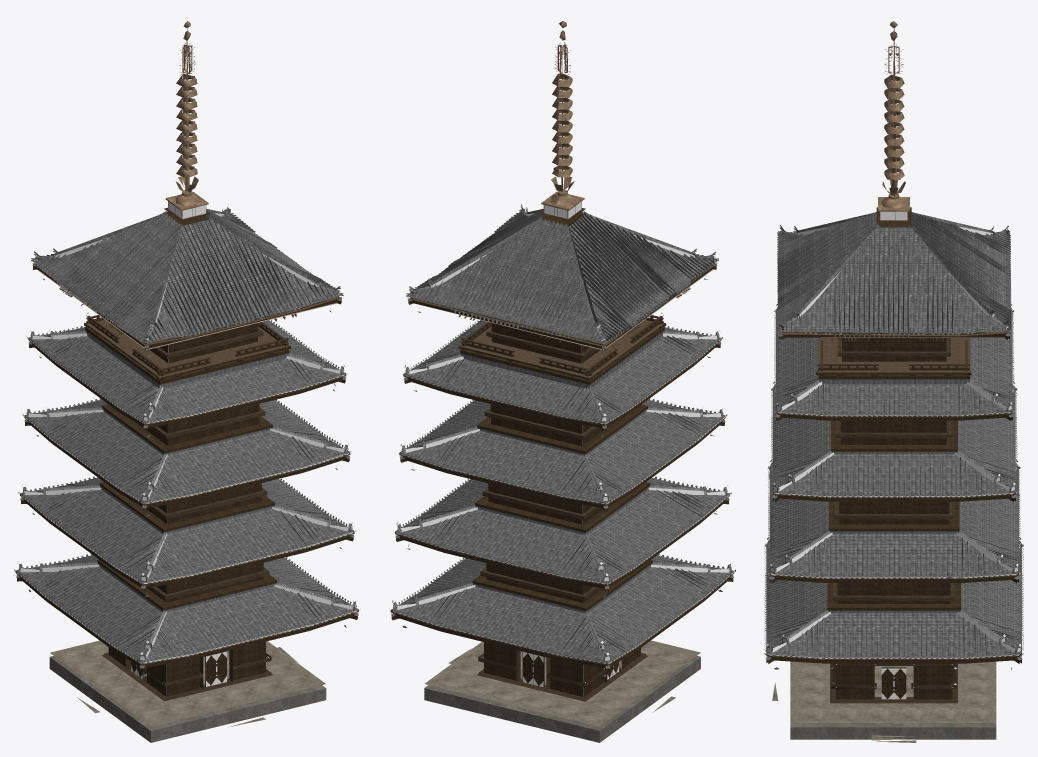
Rendered from Pagoda_Goju_46m.gltf.
The picture shows the model from 3 angles, left to right: view 1: azimuth 30°, elevation 25°; view 2: azimuth 150°, elevation 25°; view 3: azimuth 270°, elevation 25°; orthographic projection.
Visible parts, largest first — view 1: Roof5_LOD0.002, Roof1_LOD0.008, Roof2_LOD0.008, Roof3_LOD0.005, Roof4_LOD0.002, Base_LOD0.008, Wall1_LOD0.008, Sorin_LOD0.008, Wall4_LOD0.002, Wall3_LOD0.005, Wall5_LOD0.002, Wall2_LOD0.008; view 2: Roof5_LOD0.002, Roof1_LOD0.008, Roof2_LOD0.008, Roof3_LOD0.005, Roof4_LOD0.002, Base_LOD0.008, Wall1_LOD0.008, Sorin_LOD0.008, Wall4_LOD0.002, Wall3_LOD0.005, Wall5_LOD0.002, Wall2_LOD0.008; view 3: Roof5_LOD0.002, Roof1_LOD0.008, Roof2_LOD0.008, Roof3_LOD0.005, Roof4_LOD0.002, Base_LOD0.008, Wall1_LOD0.008, Sorin_LOD0.008, Wall4_LOD0.002, Wall3_LOD0.005, Wall5_LOD0.002, Wall2_LOD0.008 (+1 smaller).
Boxes of the visible parts, left/top/right/bottom form: Roof5_LOD0.002: left=31, top=207, right=343, bottom=349; Roof1_LOD0.008: left=14, top=554, right=360, bottom=668; Roof2_LOD0.008: left=18, top=476, right=356, bottom=588; Roof3_LOD0.005: left=22, top=398, right=351, bottom=508; Roof4_LOD0.002: left=27, top=312, right=347, bottom=428; Base_LOD0.008: left=49, top=640, right=326, bottom=742; Wall1_LOD0.008: left=17, top=577, right=357, bottom=701; Sorin_LOD0.008: left=165, top=21, right=208, bottom=219; Wall4_LOD0.002: left=29, top=344, right=345, bottom=445; Wall3_LOD0.005: left=25, top=422, right=349, bottom=524; Wall5_LOD0.002: left=33, top=266, right=341, bottom=363; Wall2_LOD0.008: left=21, top=500, right=353, bottom=602; Roof5_LOD0.002: left=406, top=204, right=718, bottom=349; Roof1_LOD0.008: left=389, top=554, right=735, bottom=668; Roof2_LOD0.008: left=394, top=476, right=731, bottom=589; Roof3_LOD0.005: left=398, top=398, right=727, bottom=508; Roof4_LOD0.002: left=402, top=313, right=722, bottom=428; Base_LOD0.008: left=424, top=640, right=700, bottom=742; Wall1_LOD0.008: left=391, top=577, right=733, bottom=701; Sorin_LOD0.008: left=541, top=21, right=584, bottom=219; Wall4_LOD0.002: left=404, top=344, right=720, bottom=445; Wall3_LOD0.005: left=400, top=422, right=724, bottom=524; Wall5_LOD0.002: left=408, top=266, right=716, bottom=363; Wall2_LOD0.008: left=396, top=500, right=728, bottom=602; Roof5_LOD0.002: left=777, top=207, right=1011, bottom=341; Roof1_LOD0.008: left=764, top=537, right=1023, bottom=663; Roof2_LOD0.008: left=767, top=460, right=1020, bottom=582; Roof3_LOD0.005: left=771, top=382, right=1017, bottom=501; Roof4_LOD0.002: left=774, top=304, right=1014, bottom=420; Base_LOD0.008: left=772, top=661, right=996, bottom=742; Wall1_LOD0.008: left=766, top=659, right=1021, bottom=703; Sorin_LOD0.008: left=878, top=21, right=909, bottom=220; Wall4_LOD0.002: left=776, top=416, right=1012, bottom=444; Wall3_LOD0.005: left=773, top=497, right=1015, bottom=524; Wall5_LOD0.002: left=779, top=335, right=1009, bottom=361; Wall2_LOD0.008: left=769, top=475, right=1018, bottom=603.
Size of the model in its own units: 16.13 by 46.71 by 16.12.
Materials: 13 (12 with a texture image).
